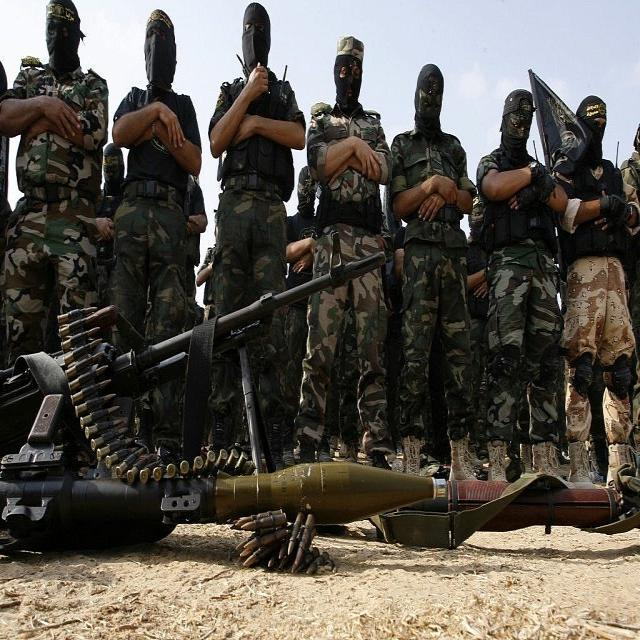bazooka: (9, 427, 465, 565)
